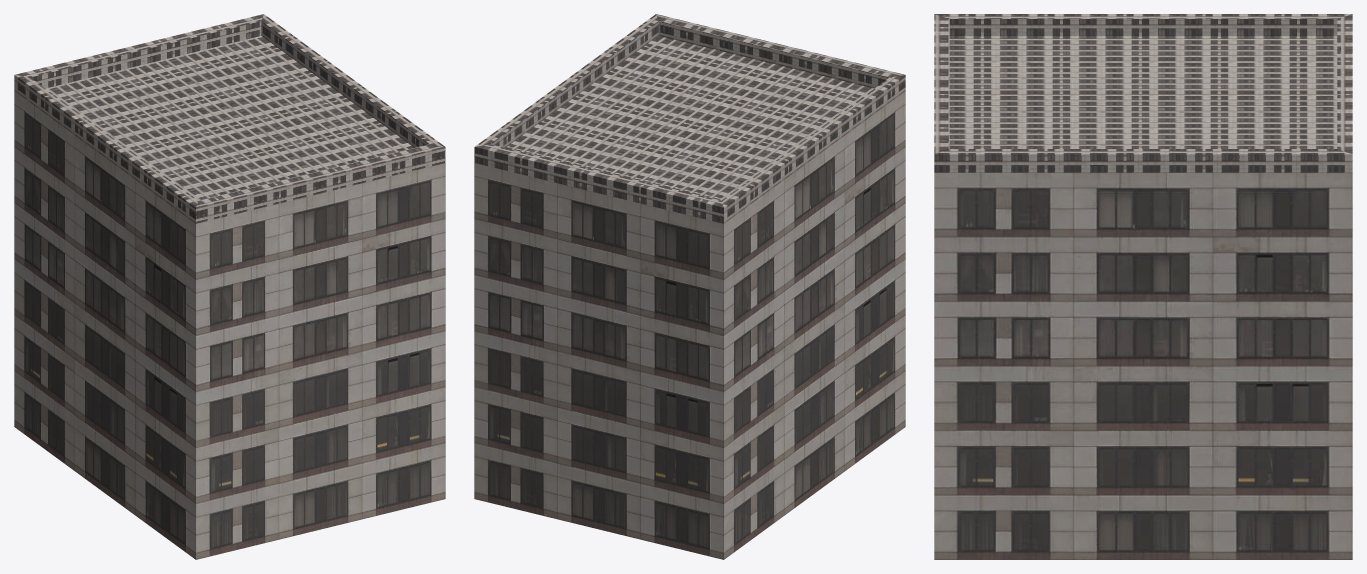
File: bina979__--__-_.fbx
3 views of the same model, side by side, from view 1: azimuth 30°, elevation 25°; view 2: azimuth 150°, elevation 25°; view 3: azimuth 270°, elevation 25° (orthographic). The views are drawn at different scales.
Parts seen in each view (by area): view 1: Cube; view 2: Cube; view 3: Cube.
Part boxes in pixels (x1,y1,x2,y2): Cube: (14,14,445,559); Cube: (474,14,905,559); Cube: (934,14,1352,559).
Bounding box in the file's own units: 256 × 346 × 323.
Materials: 1 (1 with a texture image).
